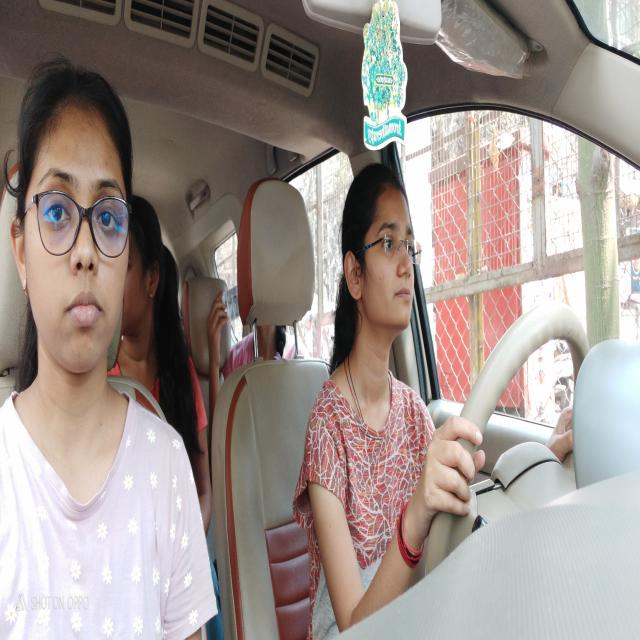person: (25, 84, 130, 357), (344, 178, 417, 328), (130, 200, 162, 326)
